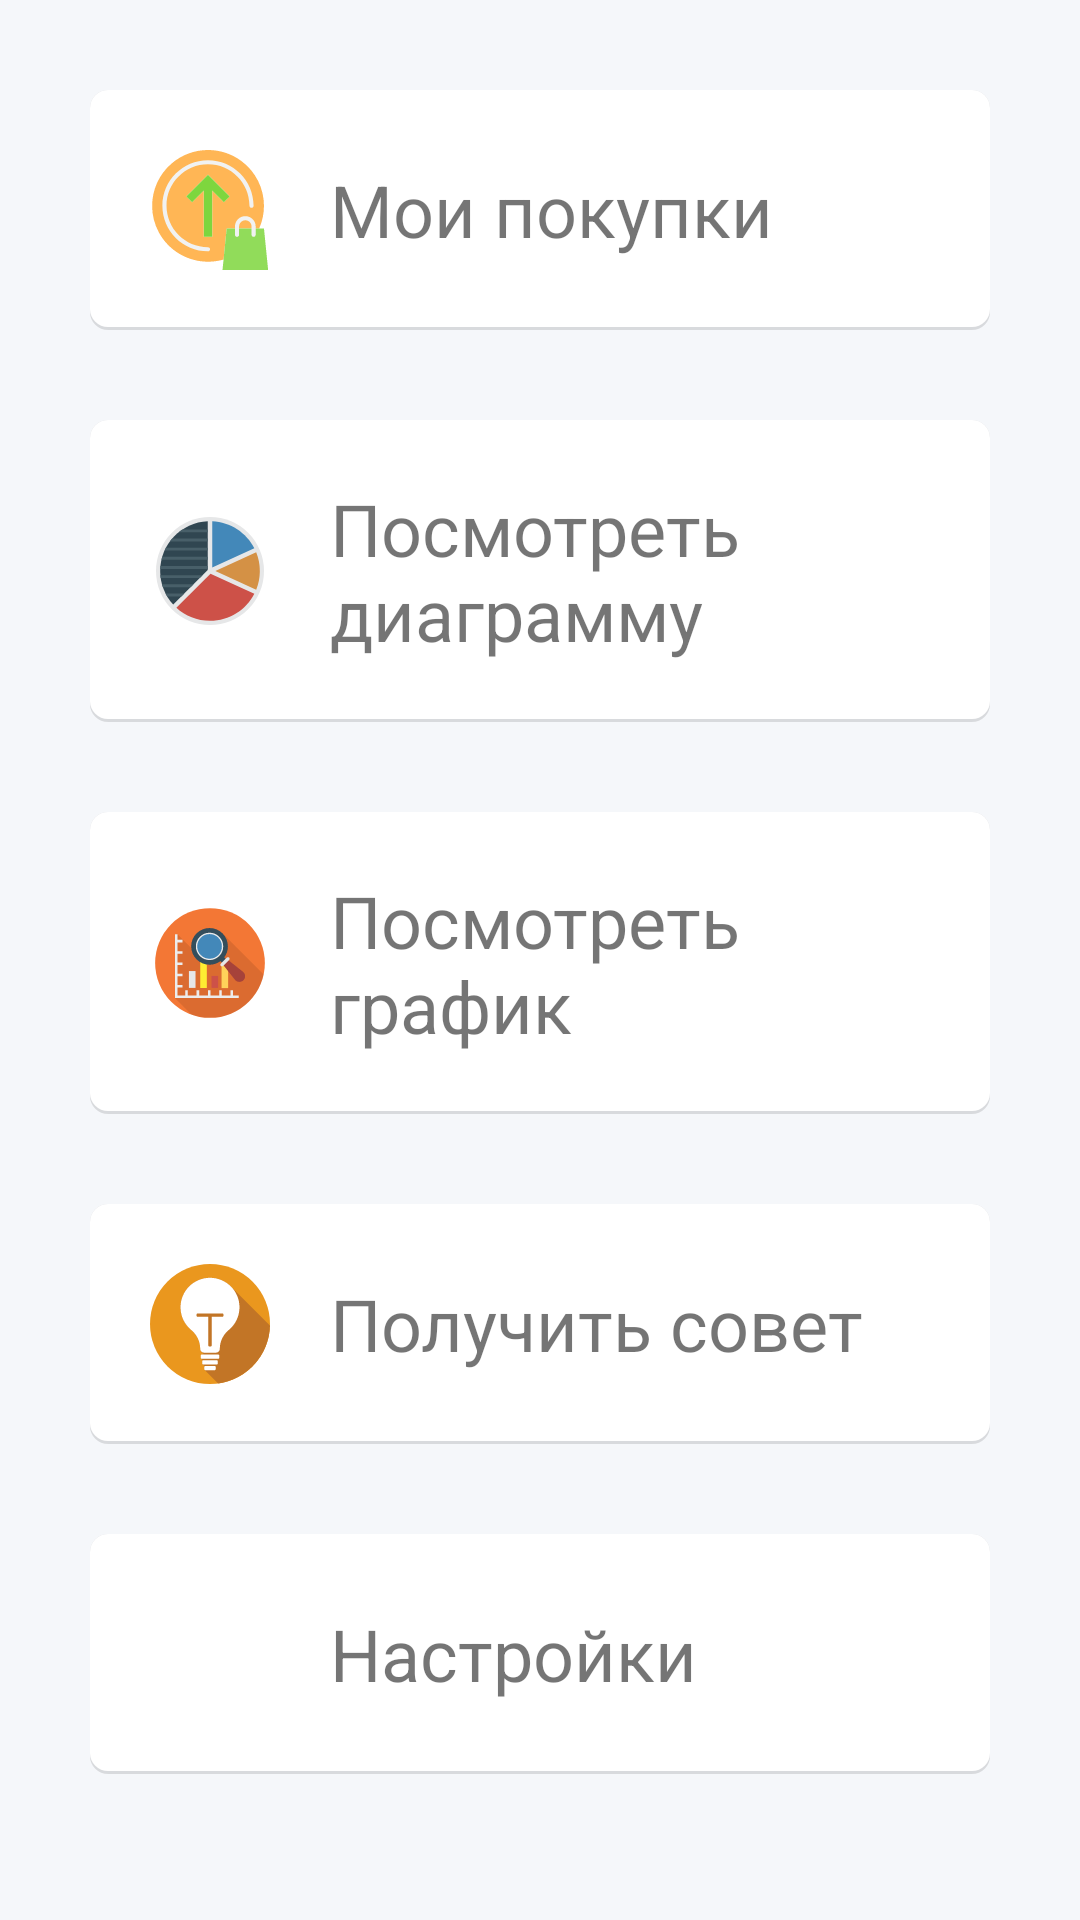

Named icons in this screenshot (1080*1920) and their centers, point (x, y):
advice: point (210, 1324)
buy: point (210, 210)
graph: point (210, 963)
pie: point (210, 571)
